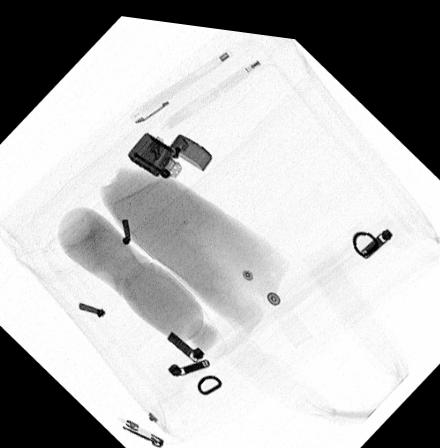Lighter: (127, 128, 213, 174)
